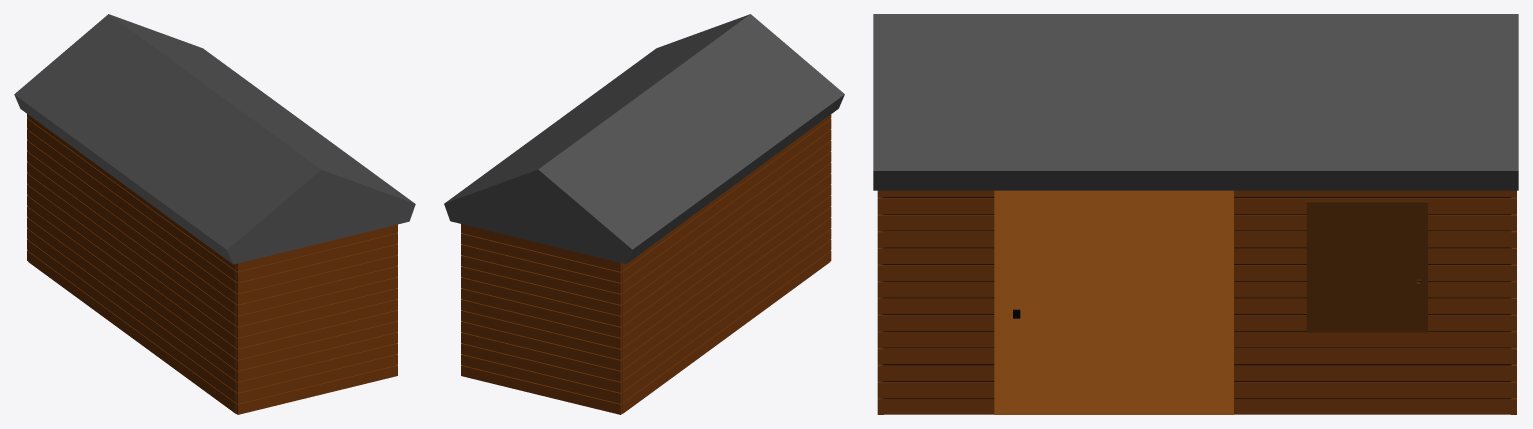
Rendered from GranjaExterior4.fbx.
3 renders of one model, left to right at view 1: azimuth 30°, elevation 25°; view 2: azimuth 150°, elevation 25°; view 3: azimuth 270°, elevation 25°, orthographic. The views are drawn at different scales.
Visible parts, largest first — view 1: Cylinder, Cube.005, Cube.007; view 2: Cylinder, Cube.005, Cube.008; view 3: Cylinder, Cube.006, Cube.016, Cube.019, Cube, Cube.008, Cube.007.
Part boxes in pixels (left/top/right/bottom): Cylinder: left=14, top=14, right=415, bottom=264; Cube.005: left=28, top=115, right=236, bottom=413; Cube.007: left=236, top=224, right=397, bottom=414; Cylinder: left=444, top=14, right=844, bottom=263; Cube.005: left=622, top=115, right=830, bottom=413; Cube.008: left=461, top=224, right=622, bottom=414; Cylinder: left=873, top=14, right=1518, bottom=190; Cube.006: left=882, top=190, right=1510, bottom=414; Cube.016: left=994, top=190, right=1233, bottom=414; Cube.019: left=1306, top=200, right=1427, bottom=332; Cube: left=881, top=197, right=1511, bottom=398; Cube.008: left=1510, top=190, right=1516, bottom=414; Cube.007: left=877, top=190, right=883, bottom=414.
Bounding box in the file's own units: 238 × 273 × 465.
